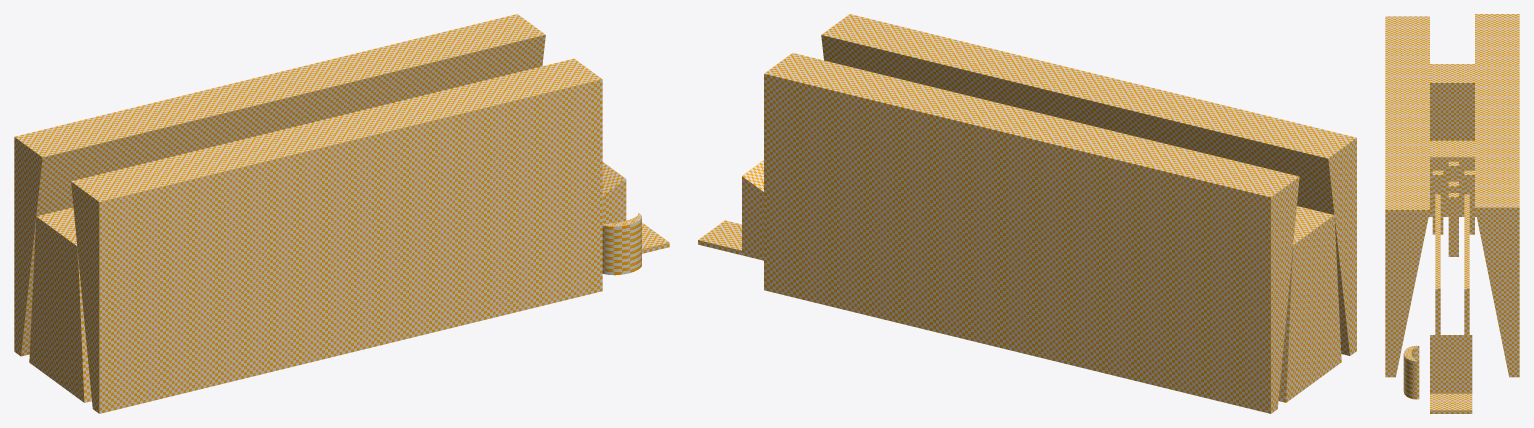
File: Desert_01.fbx
The picture shows the model from 3 angles, left to right: view 1: azimuth 30°, elevation 25°; view 2: azimuth 150°, elevation 25°; view 3: azimuth 270°, elevation 25°; orthographic projection. The views are drawn at different scales.
Visible parts, largest first — view 1: MaterialMesh; view 2: MaterialMesh; view 3: MaterialMesh.
Part boxes in pixels (x1=…): MaterialMesh: x1=14, y1=14, x2=669, y2=413; MaterialMesh: x1=698, y1=14, x2=1356, y2=413; MaterialMesh: x1=1385, y1=14, x2=1519, y2=413.
Size of the model in its own units: 207 by 71 by 51.
